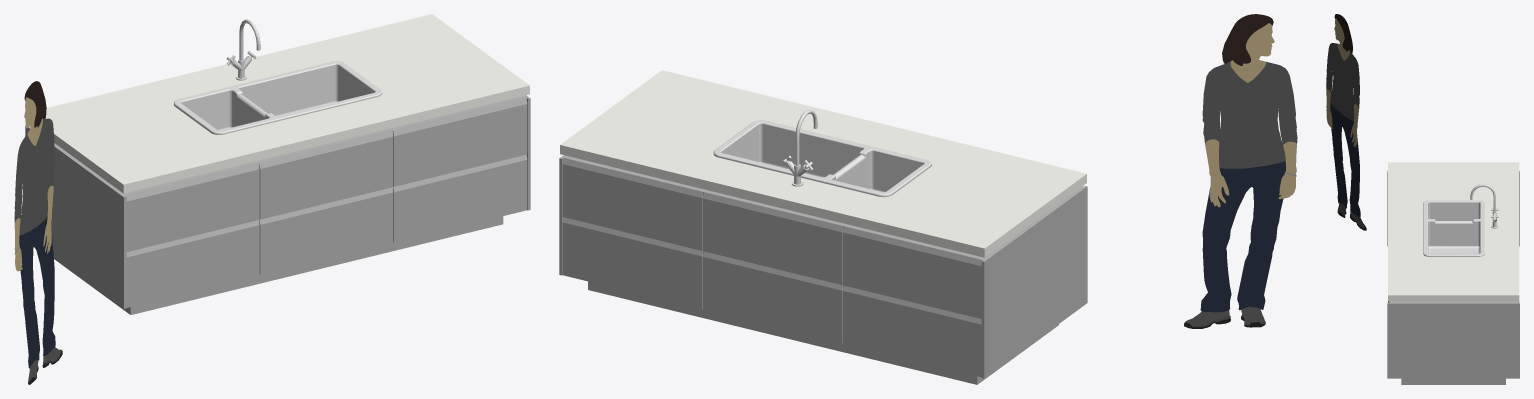
Rendered from Sink.dae.
The picture shows the model from 3 angles, left to right: view 1: azimuth 30°, elevation 25°; view 2: azimuth 150°, elevation 25°; view 3: azimuth 270°, elevation 25°; orthographic projection. The views are drawn at different scales.
Visible parts, largest first — view 1: BU09-Slab, Kit-Island, Kit-Island_down (×2), Apron_Sink (×2), Susan (×4); view 2: BU09-Slab, Kit-Island, Susan (×5), Kit-Island_down (×2), Apron_Sink (×2); view 3: Kit-Island, Kit-Island_down (×2), Susan (×5), Apron_Sink (×2).
Boxes of the visible parts, <box> form: BU09-Slab: <box>123,96,527,307</box>; Kit-Island: <box>45,14,529,193</box>; Kit-Island_down (×2): <box>25,95,530,314</box>; Apron_Sink (×2): <box>174,61,382,134</box>; Susan (×4): <box>14,81,55,368</box>; BU09-Slab: <box>562,156,984,377</box>; Kit-Island: <box>560,70,1086,257</box>; Susan (×5): <box>1200,14,1297,312</box>; Kit-Island_down (×2): <box>559,155,1087,384</box>; Apron_Sink (×2): <box>713,120,931,197</box>; Kit-Island: <box>1388,162,1519,301</box>; Kit-Island_down (×2): <box>1387,170,1519,384</box>; Susan (×5): <box>1326,14,1360,216</box>; Apron_Sink (×2): <box>1423,200,1484,256</box>.
Size of the model in its own units: 131 by 58.16 by 66.6.
